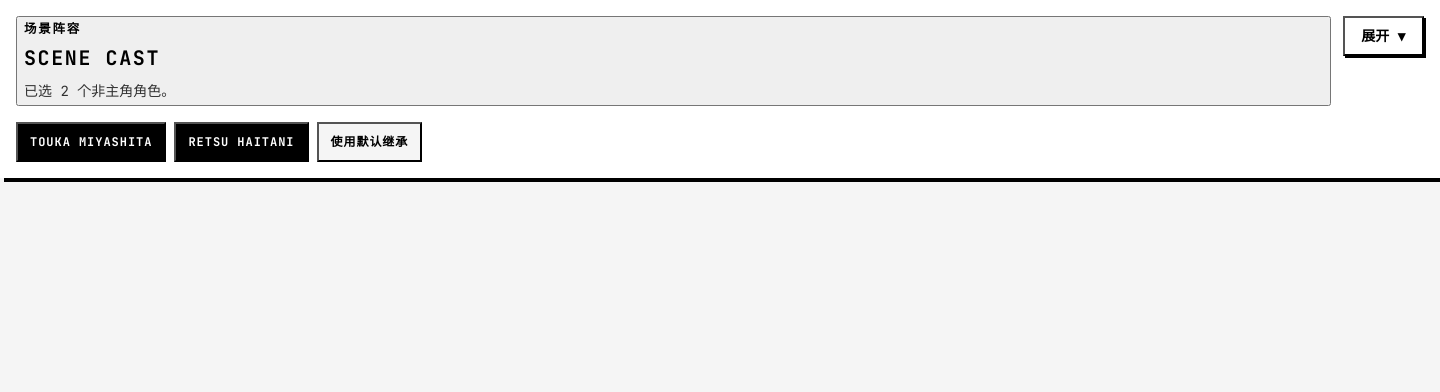
Test: SceneCastSelector › shows selected chips, expands the pool, and lets chips remove characters immediately
Check: the text "已选 2 个非主角角色。" is shown, box [24,82,175,100]
Check: the text "Touka Miyashita" is shown, box [30,134,152,150]
Click the heading "Scene Cast" at (92, 58), box [24,45,160,71]
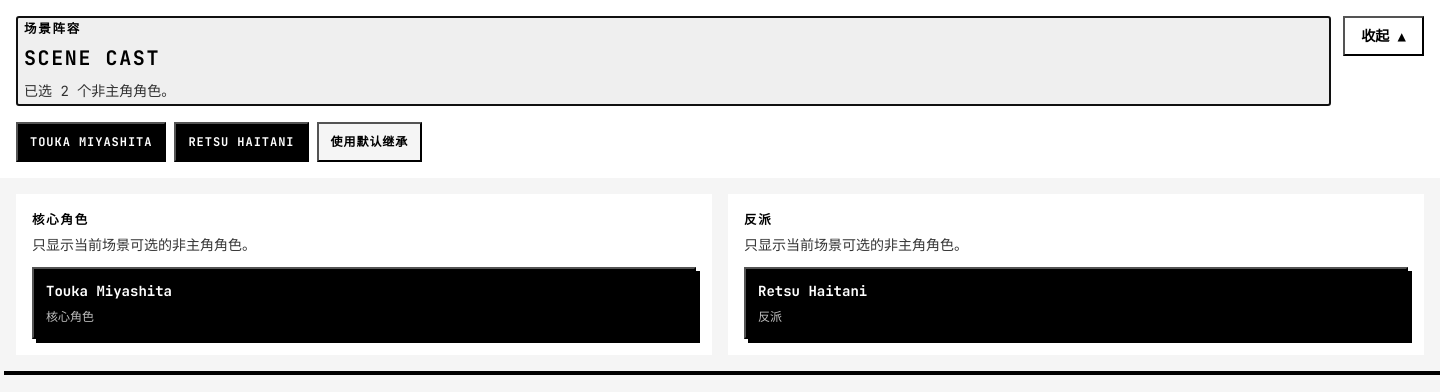
Check: the button named "场景阵容" is expanded, box [1343,16,1424,56]
Check: the button with aria-label "选择 核心角色 Touka Miyashita" is shown, box [32,267,696,339]
Check: the button with aria-label "选择 反派 Retsu Haitani" is shown, box [744,267,1408,339]
Click the button with aria-label "移除 Touka Miyashita" at (91, 142), box [16,122,166,162]
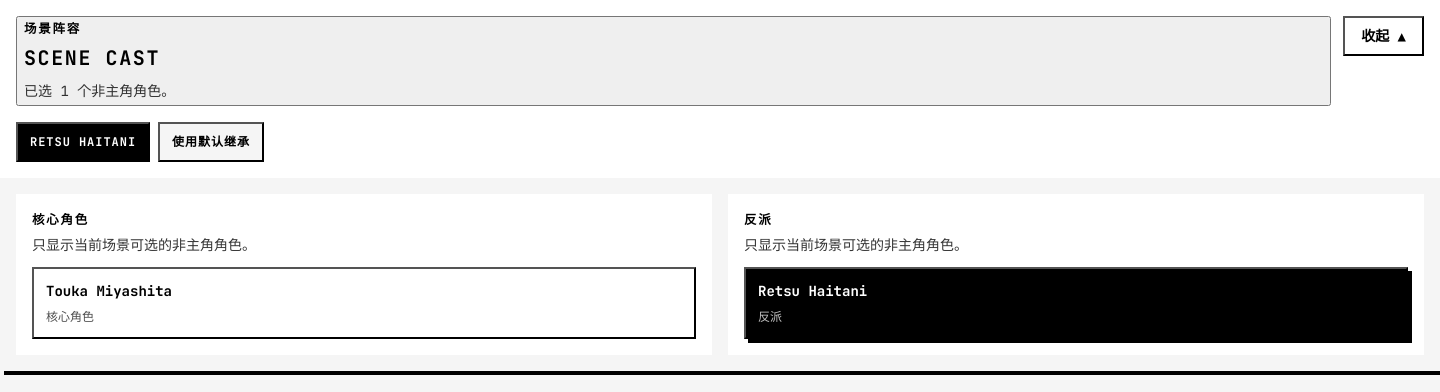
Check: the text "已选 1 个非主角角色。" is shown, box [24,82,175,100]
Click the button with aria-label "选择 核心角色 Touka Miyashita" at (109, 291), box [32,267,696,339]
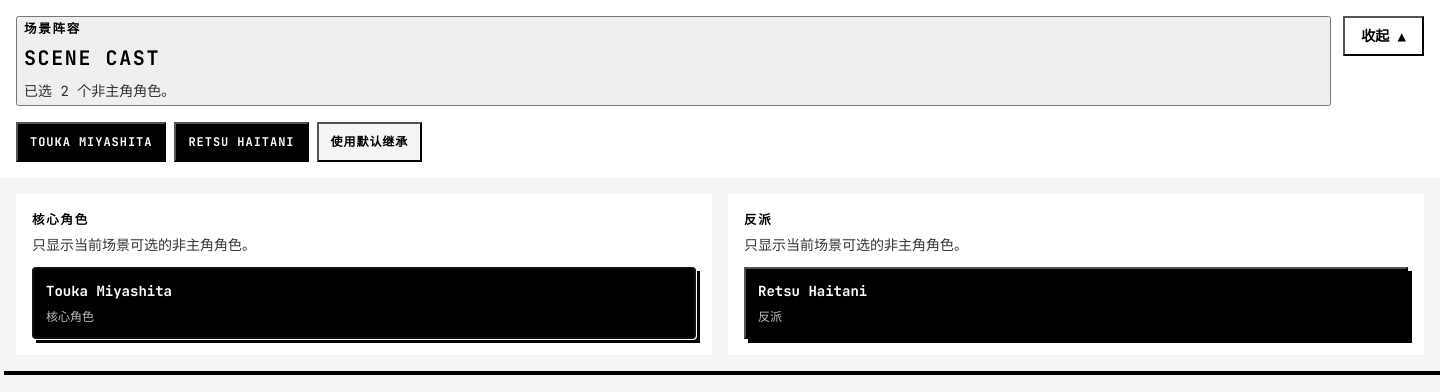
Check: the text "已选 2 个非主角角色。" is shown, box [24,82,175,100]
